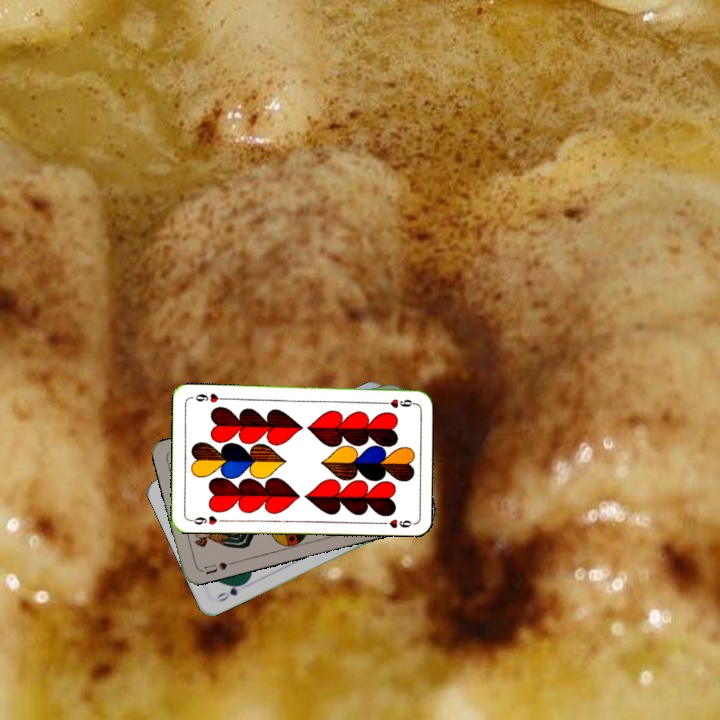GO: (211, 578, 248, 605)
H9: (186, 512, 226, 527), (376, 395, 416, 410)
SU: (197, 558, 237, 577)
